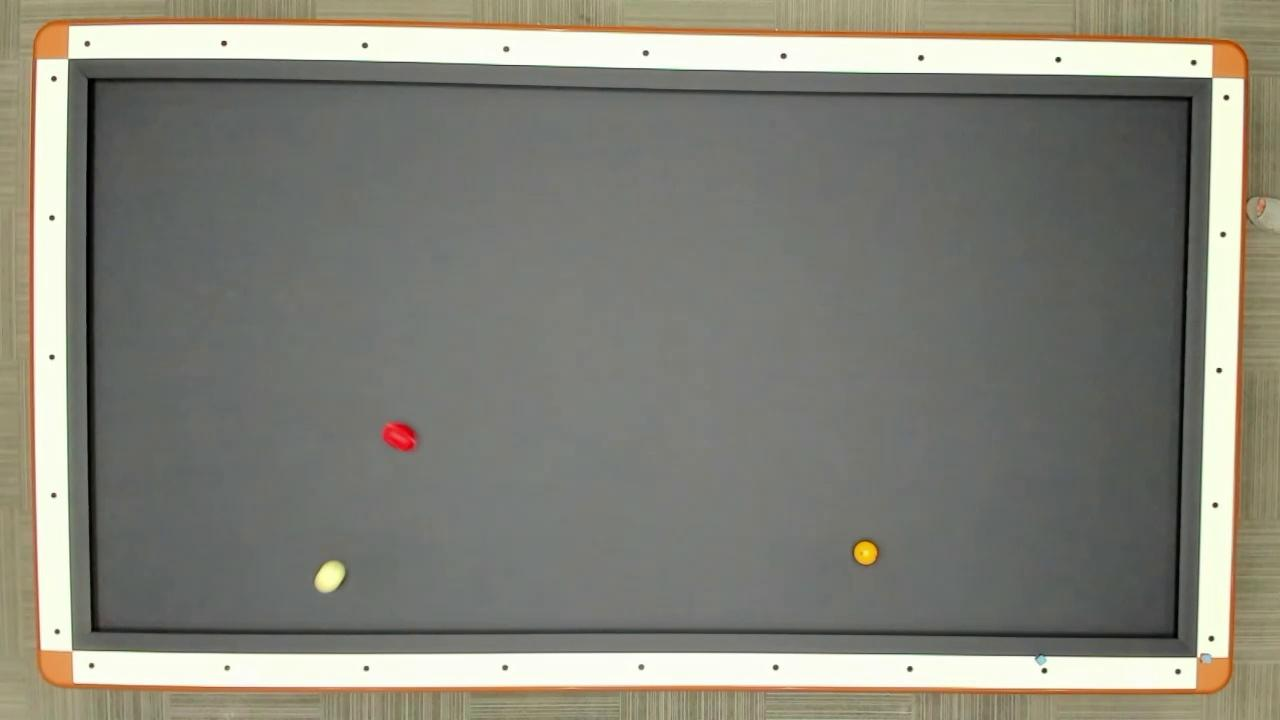Red: (380, 418, 420, 456)
White: (312, 558, 348, 596)
Yellow: (851, 539, 880, 567)
